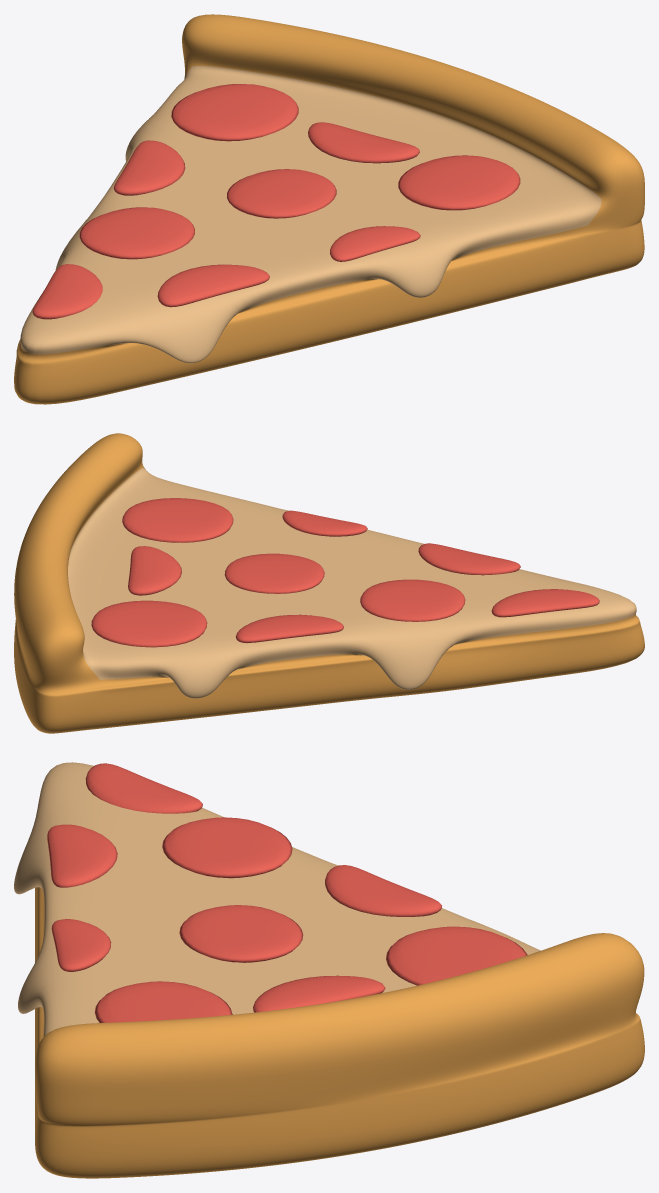
File: Pizza.fbx
3 renders of one model, top to bottom at view 1: azimuth 30°, elevation 25°; view 2: azimuth 150°, elevation 25°; view 3: azimuth 270°, elevation 25°, orthographic. The views are drawn at different scales.
Parts seen in each view (by area): view 1: Circle, Circle.001; view 2: Circle, Circle.001; view 3: Circle, Circle.001.
Boxes of the visible parts, bbox=[...] form: Circle: bbox=[14, 14, 644, 404]; Circle.001: bbox=[32, 84, 520, 319]; Circle: bbox=[14, 433, 644, 733]; Circle.001: bbox=[91, 498, 599, 647]; Circle: bbox=[14, 762, 644, 1178]; Circle.001: bbox=[47, 763, 527, 1022].
Size of the model in its own units: 0.843 by 0.1614 by 0.6448.
